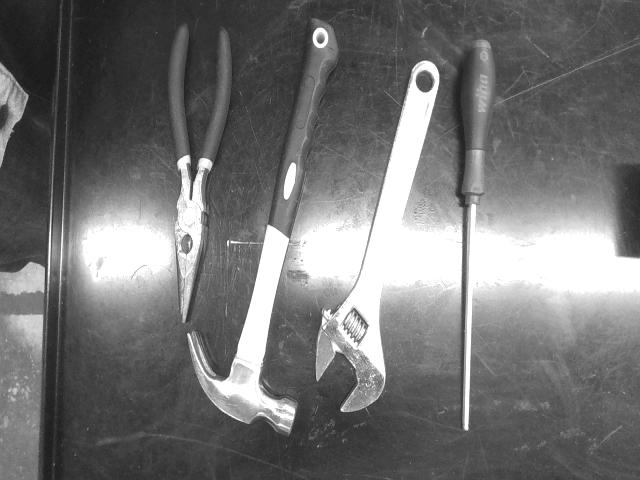Adjustable spanner: (316, 62, 439, 412)
Hammer: (188, 18, 339, 434)
Needle-nose pliers: (168, 23, 231, 321)
Screwdriver: (461, 38, 495, 431)
